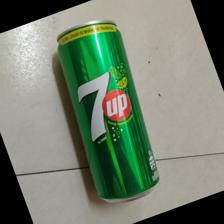7up: (55, 20, 163, 204)
